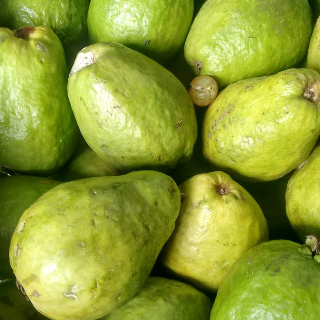oi: (10, 171, 179, 318), (70, 43, 196, 173)
